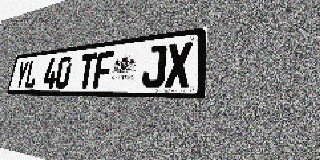0: (54, 56, 73, 89)
4: (42, 57, 60, 89)
F: (92, 51, 114, 88)
J: (141, 44, 167, 88)
L: (23, 60, 40, 89)
T: (77, 53, 97, 88)
X: (165, 41, 193, 88)
Y: (14, 61, 29, 89)
